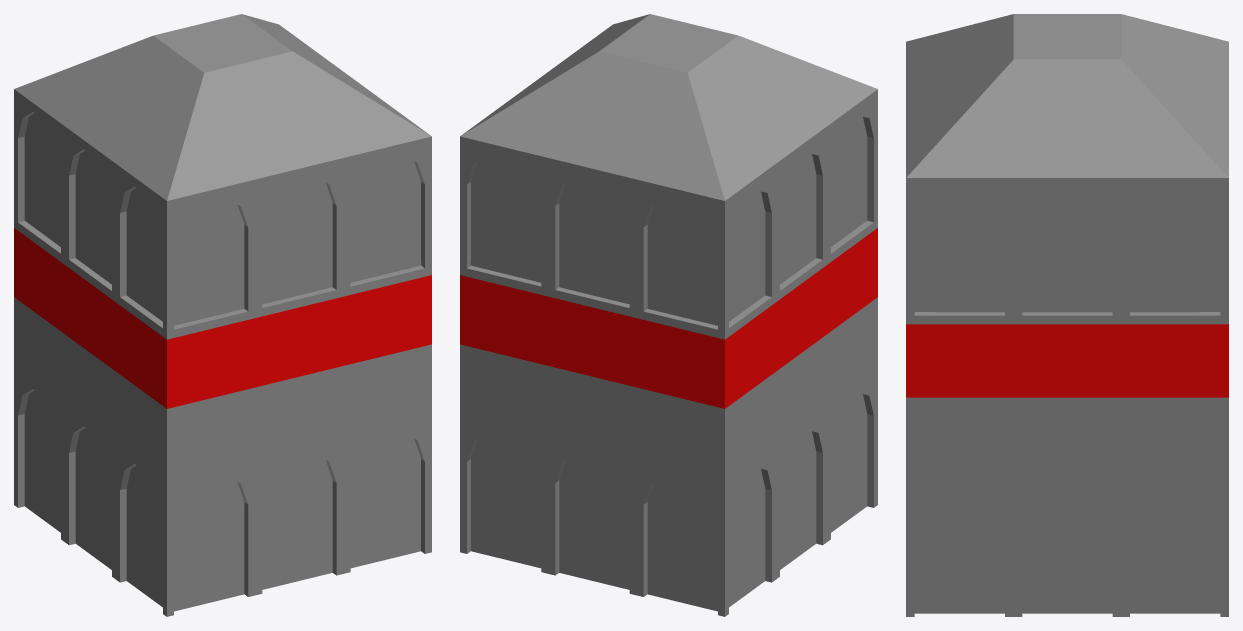
File: Tower03.FBX
3 renders of one model, left to right at view 1: azimuth 30°, elevation 25°; view 2: azimuth 150°, elevation 25°; view 3: azimuth 270°, elevation 25°, orthographic. The views are drawn at different scales.
Visible parts, largest first — view 1: Tower03Top, Tower03Bottom, Tower03Mid; view 2: Tower03Top, Tower03Bottom, Tower03Mid; view 3: Tower03Top, Tower03Bottom, Tower03Mid.
Part boxes in pixels (x1,y1,x2,y2): Tower03Top: [14, 14, 431, 339]; Tower03Bottom: [14, 297, 431, 616]; Tower03Mid: [14, 228, 431, 408]; Tower03Top: [460, 14, 877, 339]; Tower03Bottom: [460, 297, 877, 616]; Tower03Mid: [460, 228, 877, 408]; Tower03Top: [906, 14, 1228, 324]; Tower03Bottom: [906, 397, 1228, 616]; Tower03Mid: [906, 324, 1228, 397].
Size of the model in its own units: 40 by 70 by 40.
